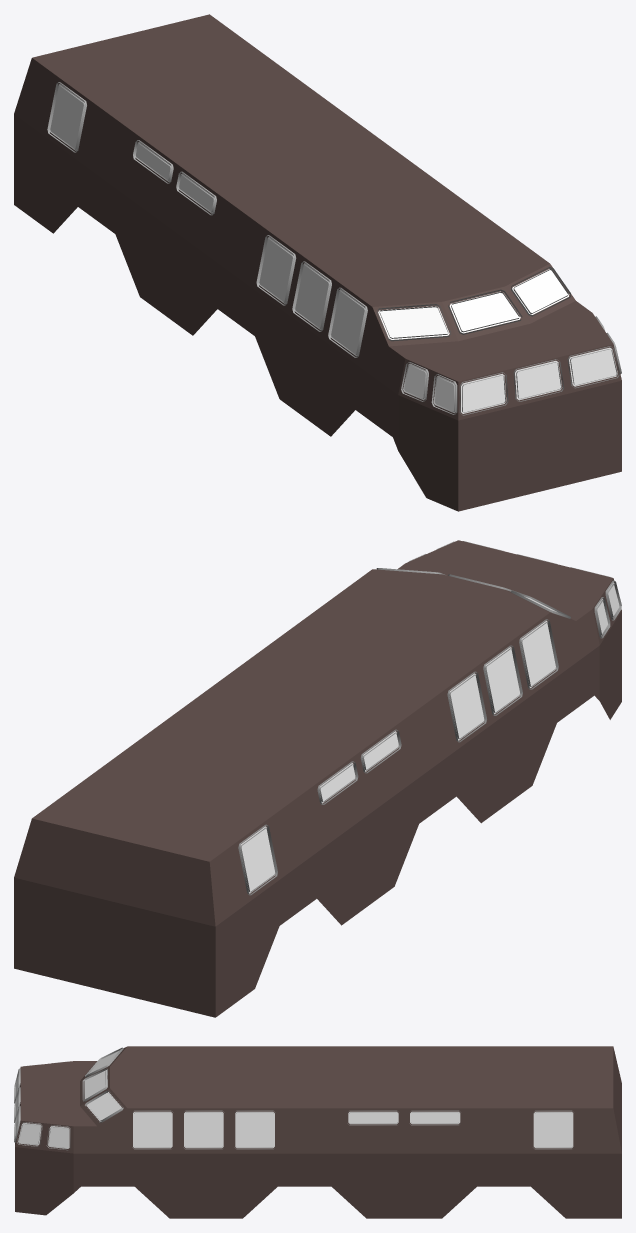
The model's file is interior.glb.
3 views of the same model, one above another, from view 1: azimuth 30°, elevation 25°; view 2: azimuth 150°, elevation 25°; view 3: azimuth 270°, elevation 25° (orthographic). The views are drawn at different scales.
Parts seen in each view (by area): view 1: Interior.001; view 2: Interior.001; view 3: Interior.001.
Boxes of the visible parts, box(x1,y1,x2,y2) form: Interior.001: box(14, 14, 621, 511); Interior.001: box(14, 540, 621, 1017); Interior.001: box(14, 1046, 621, 1218).
Size of the model in its own units: 2.78 by 1.95 by 10.13.
